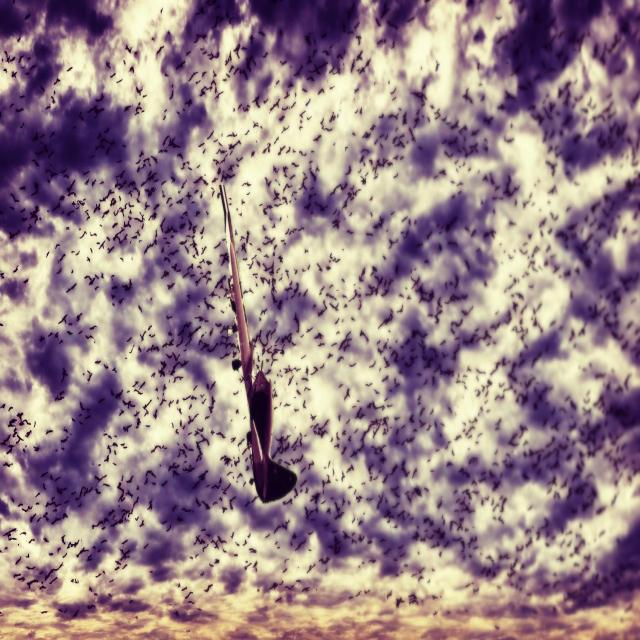airplane: (218, 182, 298, 504)
